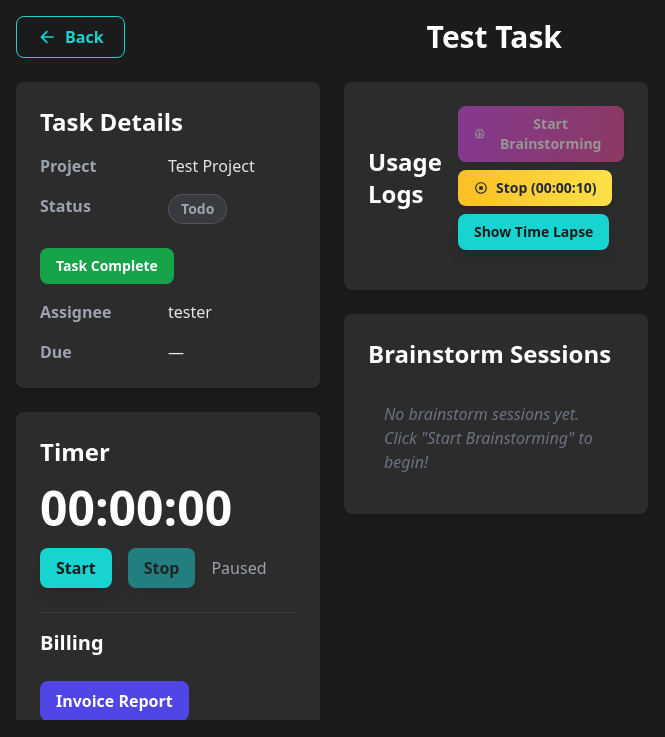
Scenario: TaskPage Component › stops brainstorming session and posts a time entry
Click the button titled "Stop brainstorming session" at (535, 188), box top-left (458, 170), bottom-right (612, 206)
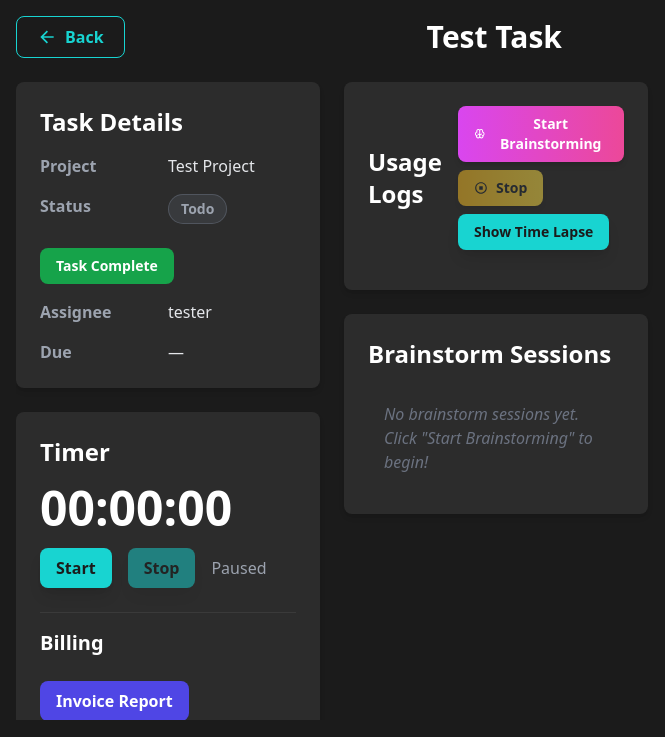
expect the button titled "Start brainstorming session" is enabled: met, box top-left (458, 106), bottom-right (624, 162)
